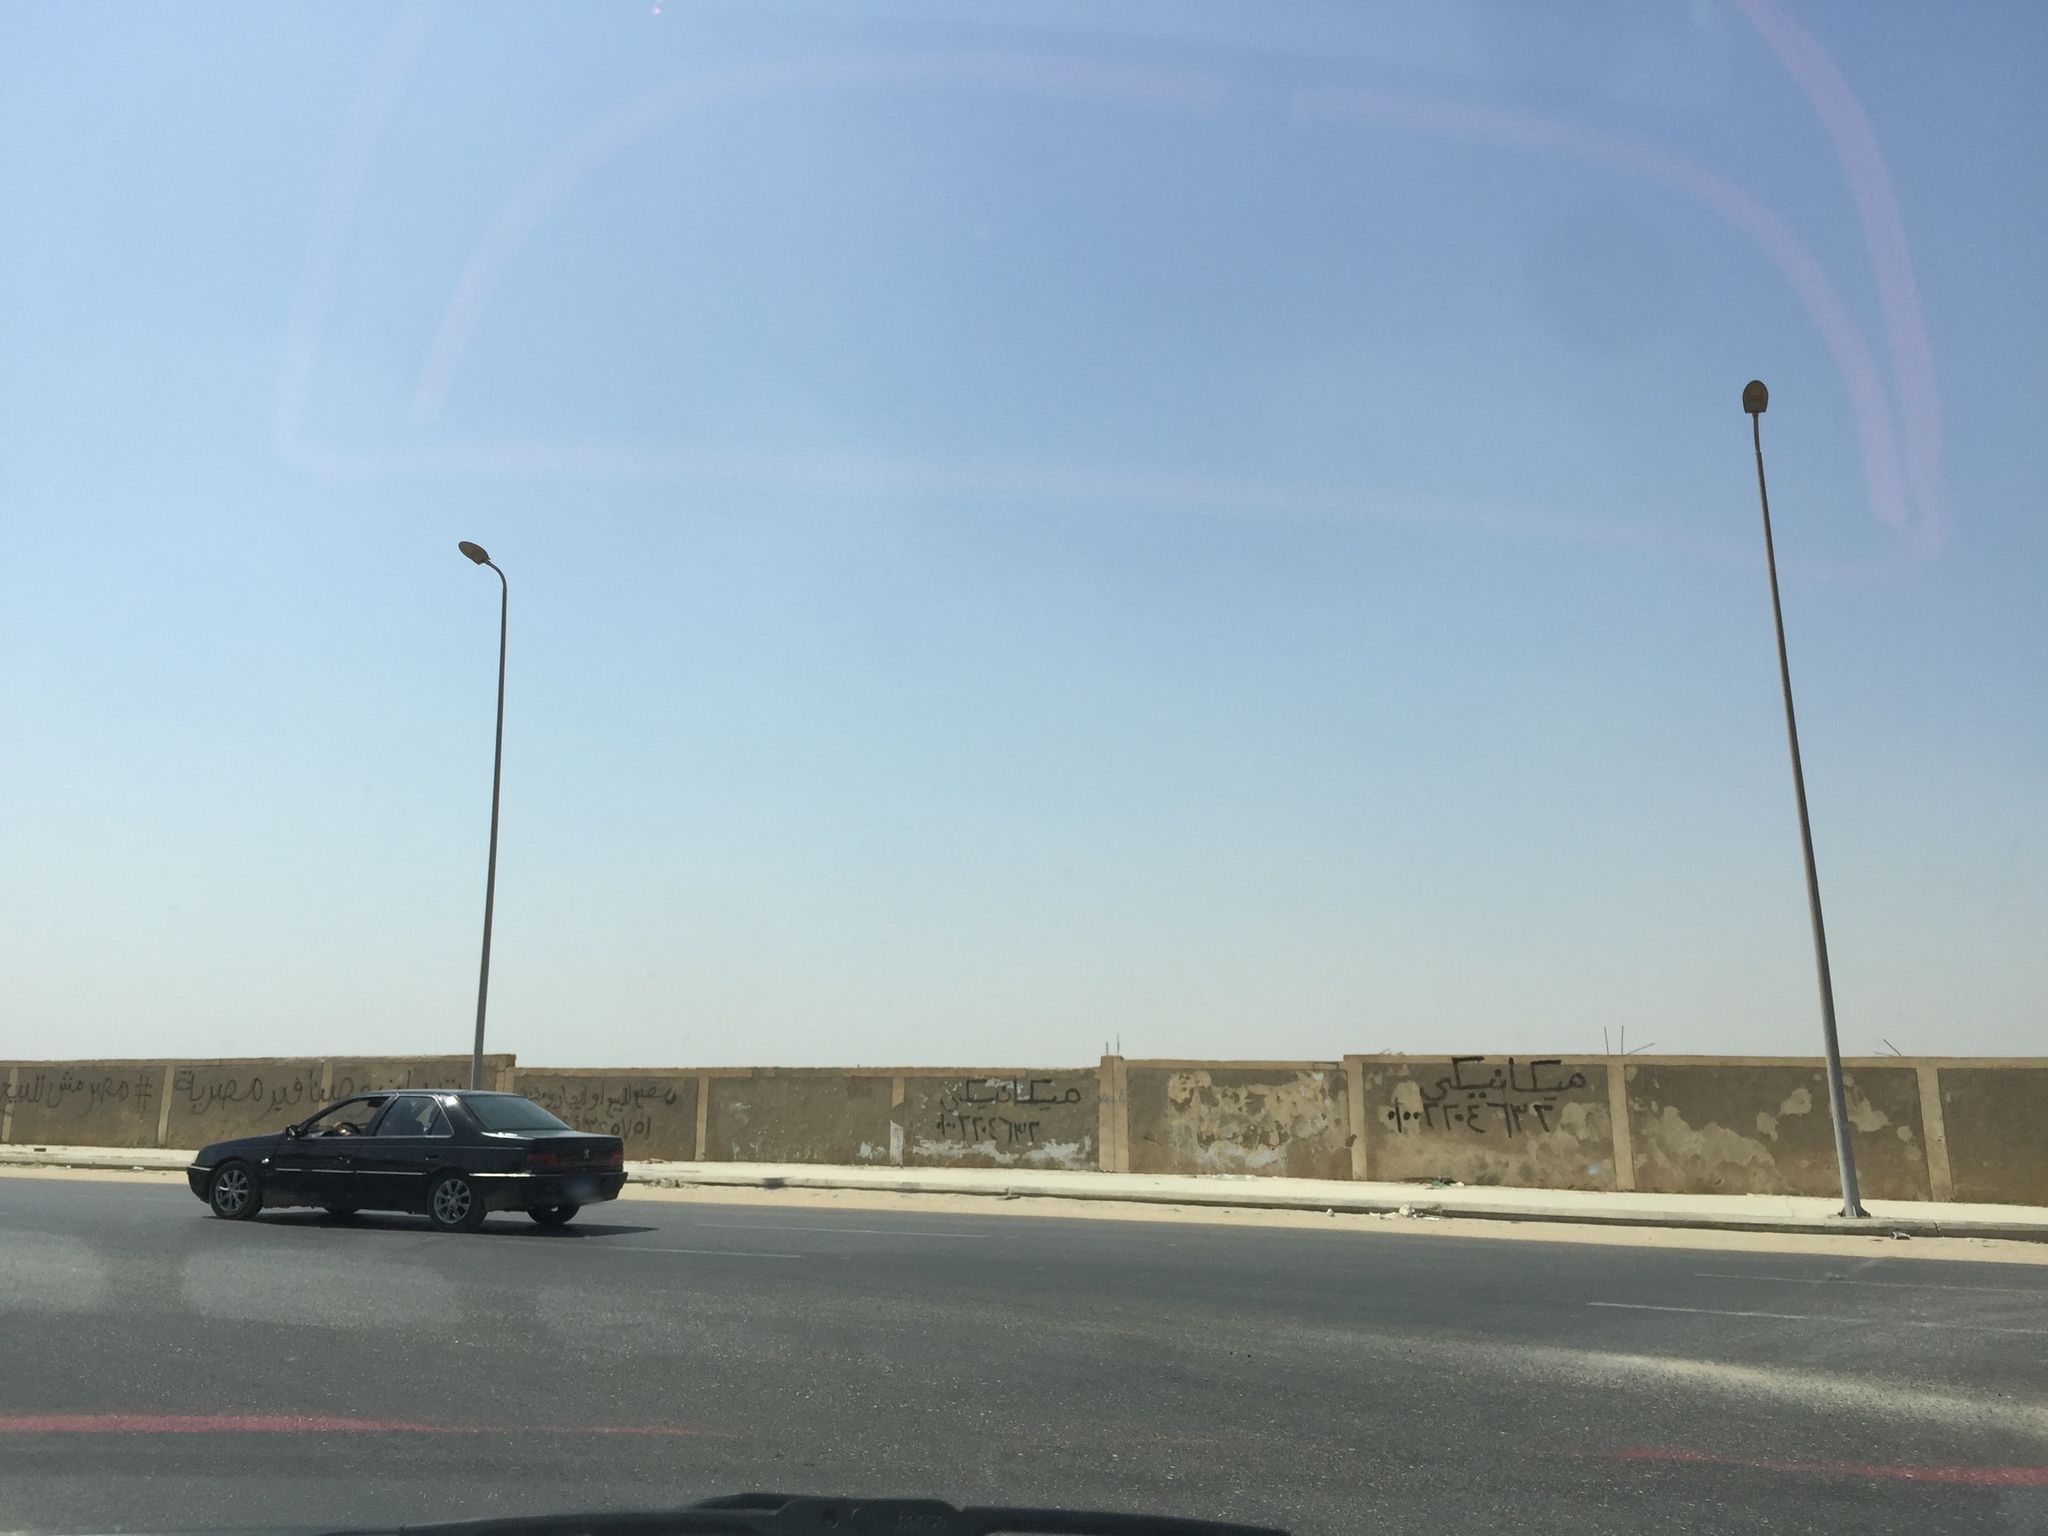car: (185, 1084, 631, 1233)
